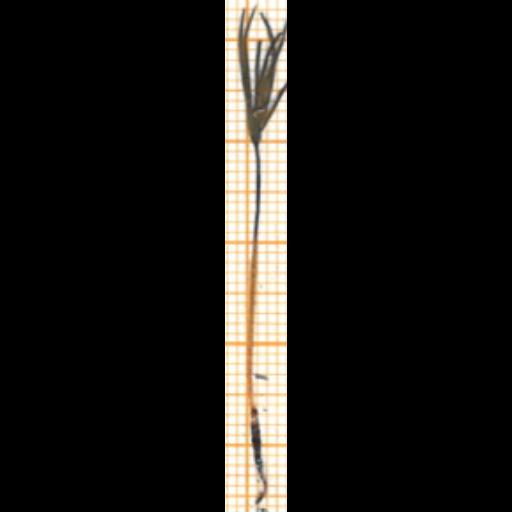flowerPinus: (240, 9, 286, 143)
rootPinus: (247, 385, 267, 503)
stemPinus: (249, 144, 260, 379)
